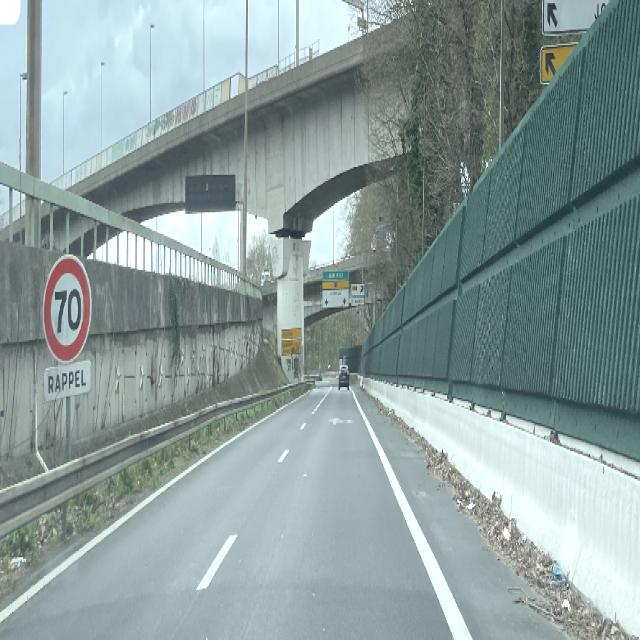speed_70: (42, 253, 94, 364)
